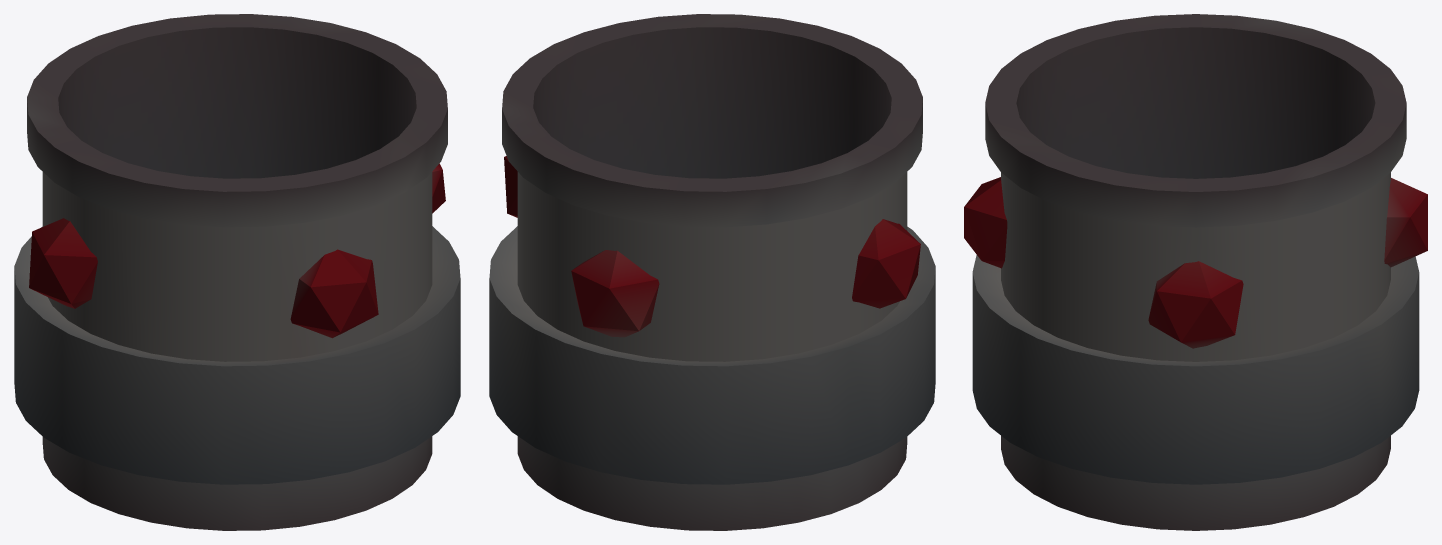
The model's file is WindTunnel.fbx.
The picture shows the model from 3 angles, left to right: view 1: azimuth 30°, elevation 25°; view 2: azimuth 150°, elevation 25°; view 3: azimuth 270°, elevation 25°; orthographic projection.
Visible parts, largest first — view 1: Icosphere.001; view 2: Icosphere.001; view 3: Icosphere.001.
Part boxes in pixels (x1,y1,x2,y2): Icosphere.001: (14, 14, 460, 530); Icosphere.001: (489, 14, 935, 530); Icosphere.001: (964, 14, 1427, 530).
Size of the model in its own units: 333 by 273 by 333.
